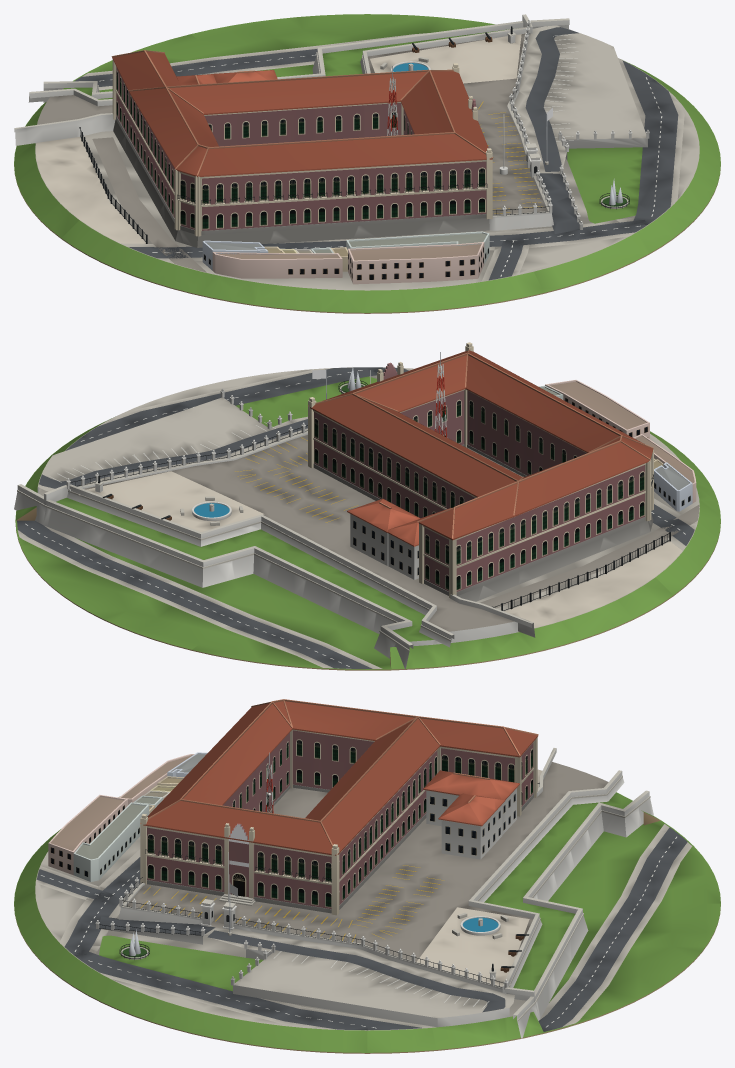
The model's file is forteAssuncao-forte.glb.
3 renders of one model, top to bottom at view 1: azimuth 30°, elevation 25°; view 2: azimuth 150°, elevation 25°; view 3: azimuth 270°, elevation 25°, orthographic.
Visible parts, largest first — view 1: Quartel_Comando, Chao_Colina, Quartel_Telhado, Ruas_Entorno, Chao_Pisos, Casario_Vizinho, Chao_Esplanada, Chao_Base, Chao_Plato_Forte, Muralhas_Forte, Muro_Patio, Chao_Bateria (+4 smaller); view 2: Quartel_Comando, Quartel_Telhado, Ruas_Entorno, Muralhas_Forte, Chao_Base, Chao_Colina, Chao_Plato_Forte, Chao_Pisos, Chao_Esplanada, Chao_Bateria, Casario_Vizinho, Anexo_Norte (+5 smaller); view 3: Quartel_Comando, Quartel_Telhado, Ruas_Entorno, Chao_Plato_Forte, Chao_Colina, Chao_Base, Chao_Esplanada, Muralhas_Forte, Chao_Pisos, Casario_Vizinho, Anexo_Norte, Chao_Bateria (+3 smaller).
Boxes of the visible parts, bbox=[...] form: Quartel_Comando: bbox=[112, 59, 492, 247]; Chao_Colina: bbox=[14, 58, 720, 312]; Quartel_Telhado: bbox=[111, 50, 492, 177]; Ruas_Entorno: bbox=[74, 27, 684, 281]; Chao_Pisos: bbox=[35, 34, 642, 243]; Casario_Vizinho: bbox=[202, 231, 489, 284]; Chao_Esplanada: bbox=[513, 25, 647, 173]; Chao_Base: bbox=[14, 14, 720, 313]; Chao_Plato_Forte: bbox=[37, 33, 547, 214]; Muralhas_Forte: bbox=[14, 14, 569, 145]; Muro_Patio: bbox=[489, 19, 649, 230]; Chao_Bateria: bbox=[63, 28, 513, 99]; Quartel_Comando: bbox=[308, 342, 653, 601]; Quartel_Telhado: bbox=[308, 349, 653, 540]; Ruas_Entorno: bbox=[17, 367, 699, 668]; Muralhas_Forte: bbox=[14, 484, 535, 668]; Chao_Base: bbox=[15, 422, 720, 670]; Chao_Colina: bbox=[15, 367, 720, 669]; Chao_Plato_Forte: bbox=[83, 435, 522, 644]; Chao_Pisos: bbox=[78, 376, 682, 631]; Chao_Esplanada: bbox=[37, 397, 307, 492]; Chao_Bateria: bbox=[56, 497, 436, 646]; Casario_Vizinho: bbox=[538, 380, 696, 511]; Anexo_Norte: bbox=[347, 498, 451, 579]; Quartel_Comando: bbox=[140, 729, 537, 915]; Quartel_Telhado: bbox=[140, 699, 538, 855]; Ruas_Entorno: bbox=[36, 824, 692, 1031]; Chao_Plato_Forte: bbox=[126, 762, 608, 986]; Chao_Colina: bbox=[14, 769, 660, 1052]; Chao_Base: bbox=[14, 817, 720, 1053]; Chao_Esplanada: bbox=[204, 927, 514, 1027]; Muralhas_Forte: bbox=[468, 748, 653, 1038]; Chao_Pisos: bbox=[99, 770, 542, 991]; Casario_Vizinho: bbox=[48, 752, 207, 881]; Anexo_Norte: bbox=[423, 770, 519, 859]; Chao_Bateria: bbox=[484, 792, 632, 990].
Bounding box in the file's own units: 66.8 × 14.6 × 66.8.
Materials: 24 (1 with a texture image).
